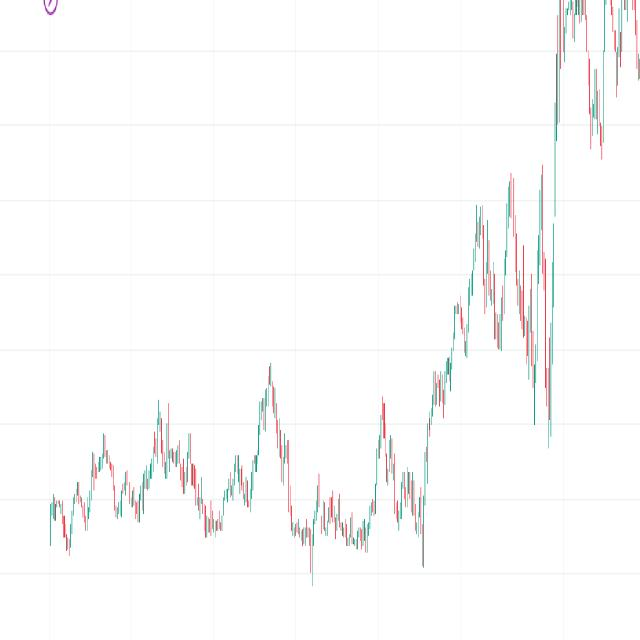Triple-Top: (463, 157, 550, 364)
